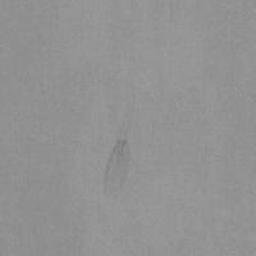Water spot: (104, 139, 130, 193)
